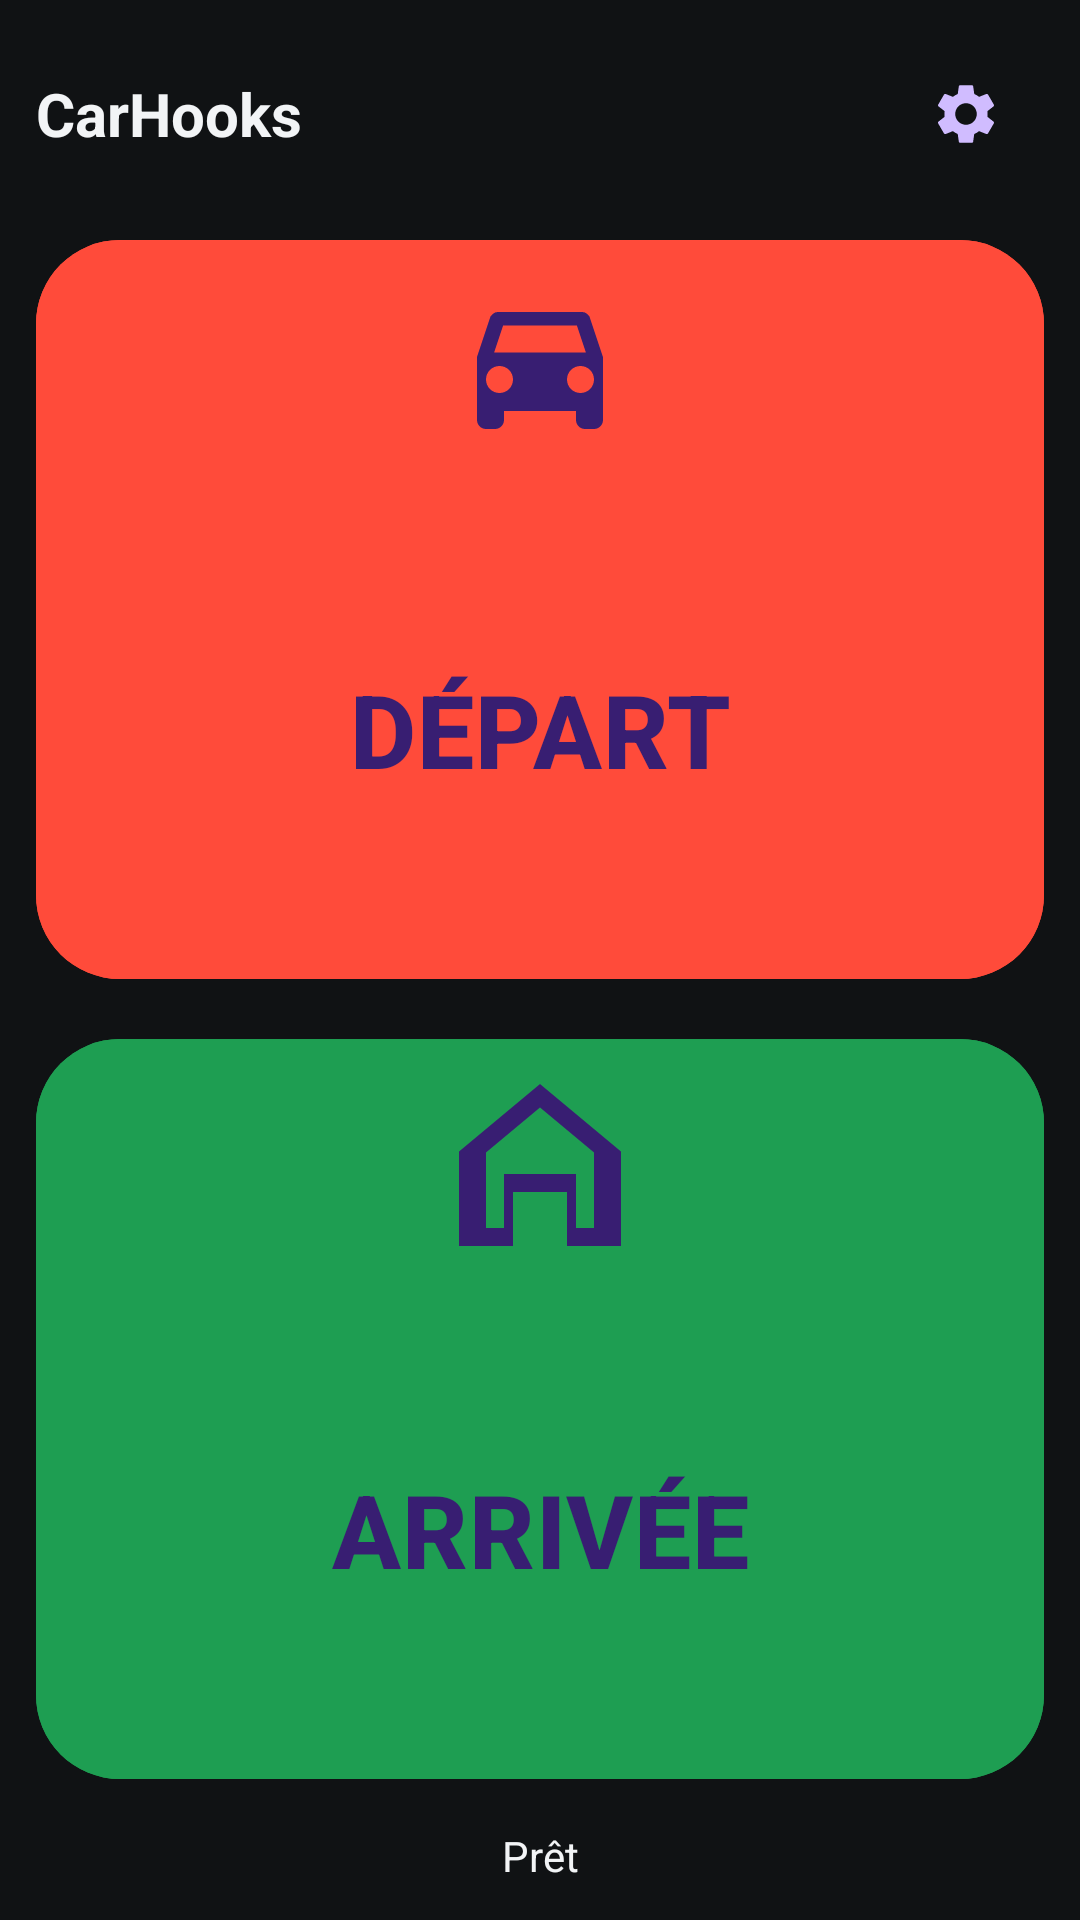

Screen size 1080×1920. Icon name, then its center in pixels as [x,y]:
Réglages: [966,114]
